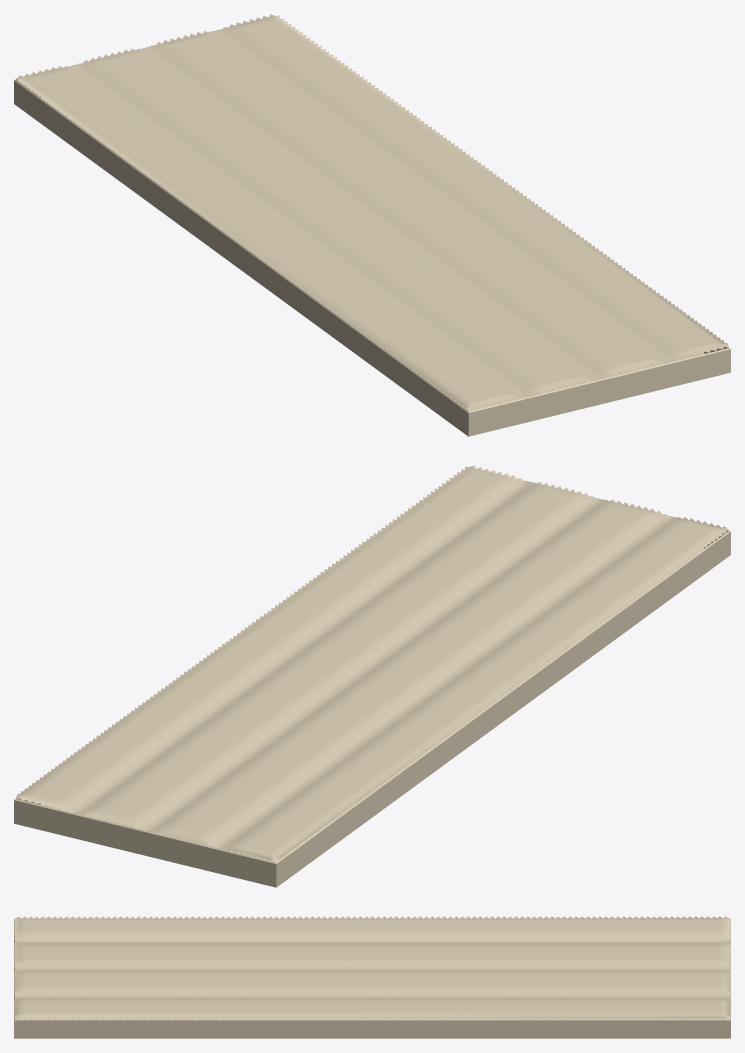
The model's file is mahsulot.glb.
The picture shows the model from 3 angles, top to bottom: view 1: azimuth 30°, elevation 25°; view 2: azimuth 150°, elevation 25°; view 3: azimuth 270°, elevation 25°; orthographic projection. The views are drawn at different scales.
Visible parts, largest first — view 1: mahsulot; view 2: mahsulot; view 3: mahsulot.
Part boxes in pixels (left/top/right/bottom): mahsulot: left=14, top=14, right=730, bottom=436; mahsulot: left=14, top=465, right=730, bottom=887; mahsulot: left=14, top=916, right=730, bottom=1038.
Size of the model in its own units: 0.4 by 0.0399 by 1.2.
